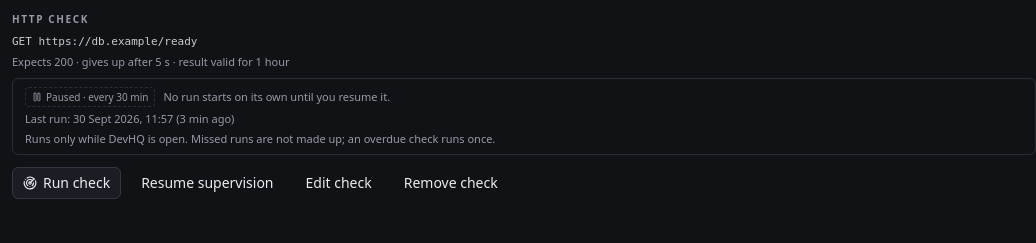
supervision of a check › shows a paused check without a next run and resumes it
The width and height of the screenshot is (1036, 243).
Expected: the text "Paused · every 30 min" is shown, [25,87,156,107]
Expected: the text "No run starts on its own until you resume it." is shown, [164,89,390,105]
What coordinates should you click on to do the following:
click the button "Resume supervision"
I would click on:
 (207, 183)
Its box is [129,167,286,199].
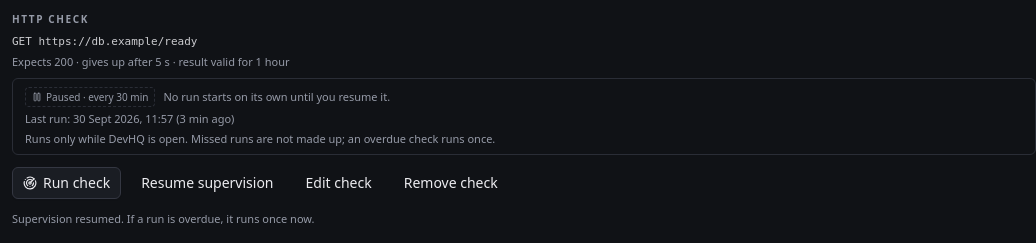
Now the message shows "Supervision resumed.", box [12,211,314,226]
